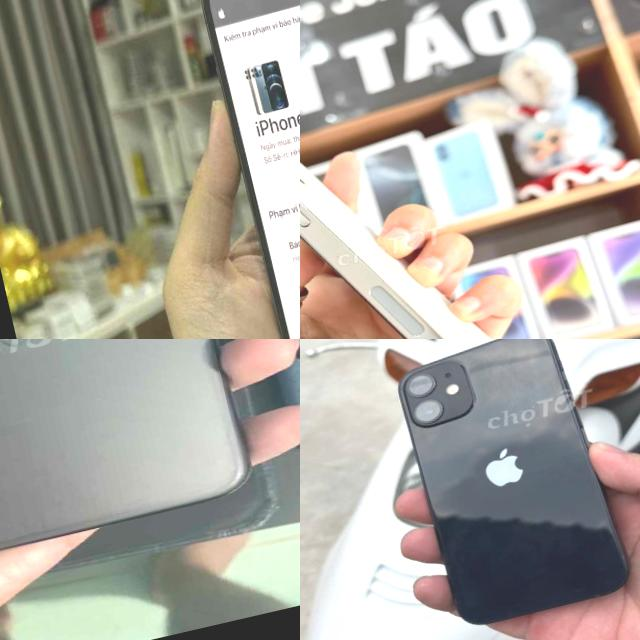gen_11: (0, 339, 261, 581)
gen_12_13: (300, 35, 574, 339), (384, 339, 640, 634), (191, 0, 300, 339)
